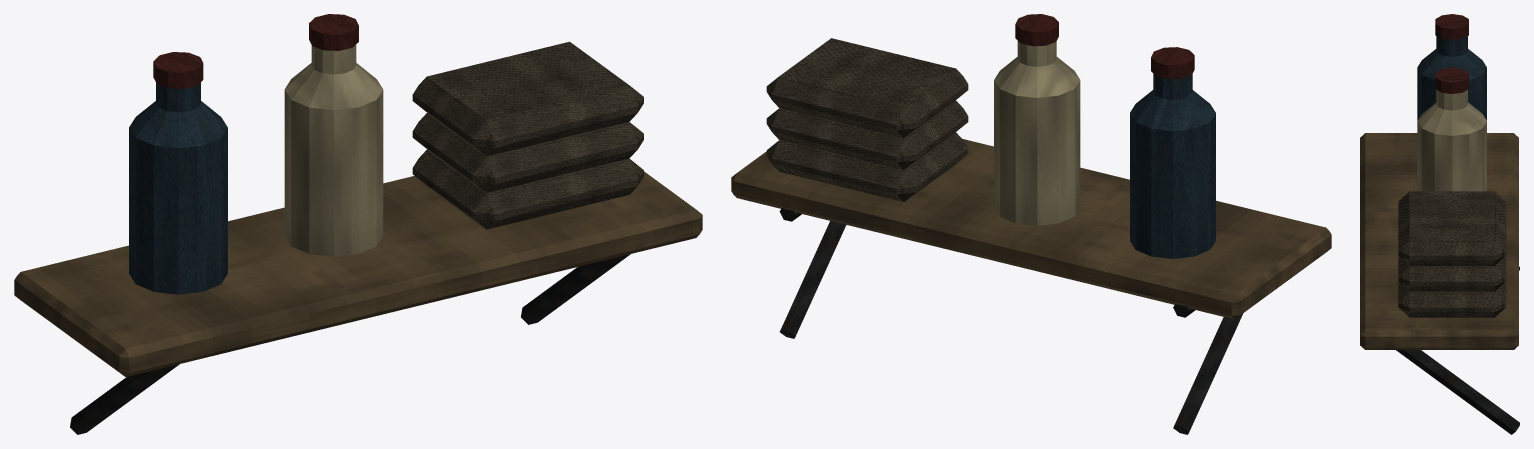
File: level_laundry_shelf_worn.glb
3 views of the same model, side by side, from view 1: azimuth 30°, elevation 25°; view 2: azimuth 150°, elevation 25°; view 3: azimuth 270°, elevation 25° (orthographic). The views are drawn at different scales.
Visible parts, largest first — view 1: level_laundry_shelf_worn; view 2: level_laundry_shelf_worn; view 3: level_laundry_shelf_worn.
Boxes of the visible parts, left/top/right/bottom form: level_laundry_shelf_worn: left=14, top=14, right=702, bottom=434; level_laundry_shelf_worn: left=731, top=14, right=1331, bottom=434; level_laundry_shelf_worn: left=1360, top=14, right=1519, bottom=434.
Size of the model in its own units: 0.75 by 0.4781 by 0.2515.
Materials: 6 (6 with a texture image).
